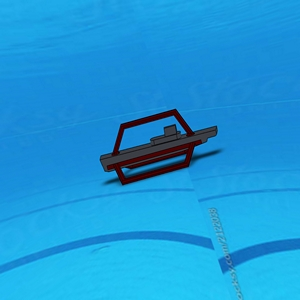submarine: (101, 110, 218, 176)
